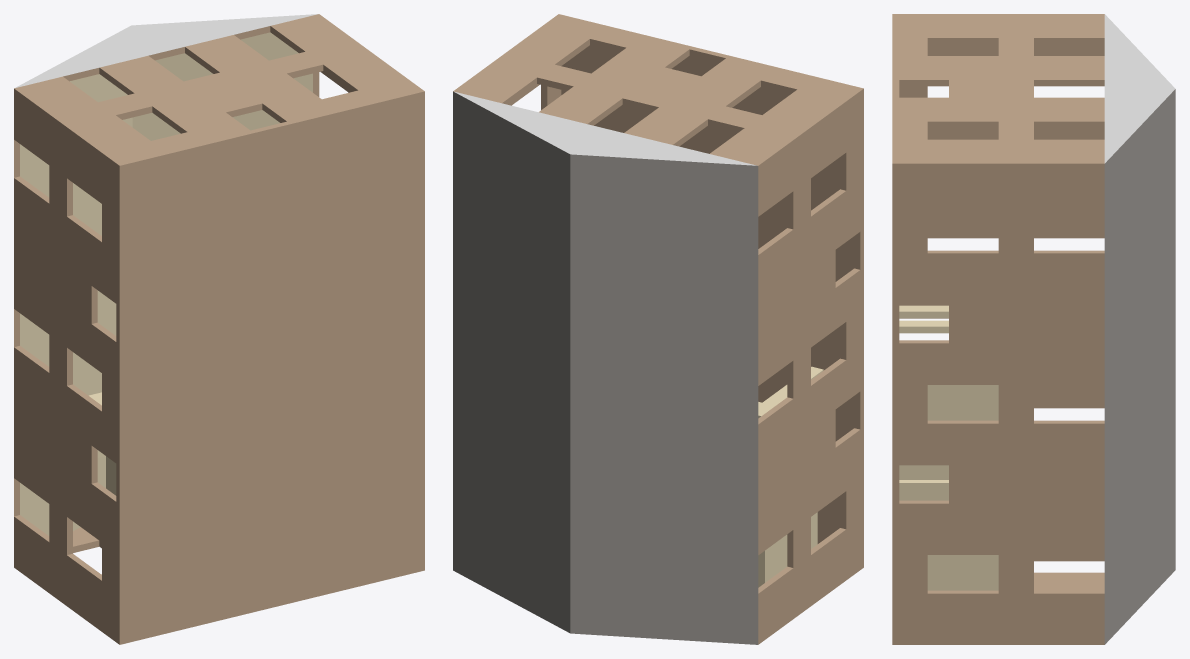
File: Meetinghouse-2.fbx
3 views of the same model, side by side, from view 1: azimuth 30°, elevation 25°; view 2: azimuth 150°, elevation 25°; view 3: azimuth 270°, elevation 25° (orthographic).
Parts seen in each view (by area): view 1: imagetostl_mesh113, imagetostl_mesh6, imagetostl_mesh8, imagetostl_mesh59, imagetostl_mesh2, imagetostl_mesh116, imagetostl_mesh114, imagetostl_mesh7, imagetostl_mesh115, imagetostl_mesh22, imagetostl_mesh49, imagetostl_mesh23 (+1 smaller); view 2: imagetostl_mesh119, imagetostl_mesh117, imagetostl_mesh6, imagetostl_mesh8, imagetostl_mesh59, imagetostl_mesh2, imagetostl_mesh88, imagetostl_mesh114, imagetostl_mesh199; view 3: imagetostl_mesh51, imagetostl_mesh52, imagetostl_mesh117, imagetostl_mesh59, imagetostl_mesh2, imagetostl_mesh168, imagetostl_mesh114, imagetostl_mesh200, imagetostl_mesh202, imagetostl_mesh175, imagetostl_mesh189, imagetostl_mesh135 (+5 smaller).
Boxes of the visible parts, box(x1,y1,x2,y2) form: imagetostl_mesh113: box(119, 99, 424, 636); imagetostl_mesh6: box(14, 88, 66, 605); imagetostl_mesh8: box(67, 127, 119, 644); imagetostl_mesh59: box(67, 53, 424, 165); imagetostl_mesh2: box(14, 14, 371, 126); imagetostl_mesh116: box(20, 74, 132, 535); imagetostl_mesh114: box(15, 14, 318, 87); imagetostl_mesh7: box(119, 430, 424, 644); imagetostl_mesh115: box(132, 32, 312, 140); imagetostl_mesh22: box(119, 133, 253, 306); imagetostl_mesh49: box(290, 91, 424, 233); imagetostl_mesh23: box(119, 343, 125, 465); imagetostl_mesh119: box(570, 154, 758, 644); imagetostl_mesh117: box(453, 91, 570, 632); imagetostl_mesh6: box(758, 127, 810, 644); imagetostl_mesh8: box(811, 88, 863, 605); imagetostl_mesh59: box(506, 14, 863, 126); imagetostl_mesh2: box(453, 53, 810, 165); imagetostl_mesh88: box(561, 45, 860, 543); imagetostl_mesh114: box(454, 91, 756, 165); imagetostl_mesh199: box(768, 512, 817, 580); imagetostl_mesh51: box(998, 163, 1104, 644); imagetostl_mesh52: box(892, 163, 998, 644); imagetostl_mesh117: box(1104, 89, 1175, 644); imagetostl_mesh59: box(892, 14, 998, 163); imagetostl_mesh2: box(998, 14, 1104, 163); imagetostl_mesh168: box(899, 44, 1104, 408); imagetostl_mesh114: box(1104, 14, 1175, 163); imagetostl_mesh200: box(899, 326, 998, 479); imagetostl_mesh202: box(899, 483, 998, 590); imagetostl_mesh175: box(1034, 572, 1104, 590); imagetostl_mesh189: box(899, 305, 948, 326); imagetostl_mesh135: box(927, 38, 998, 44).
Bounding box in the file's own units: 60000 × 90000 × 48000.
